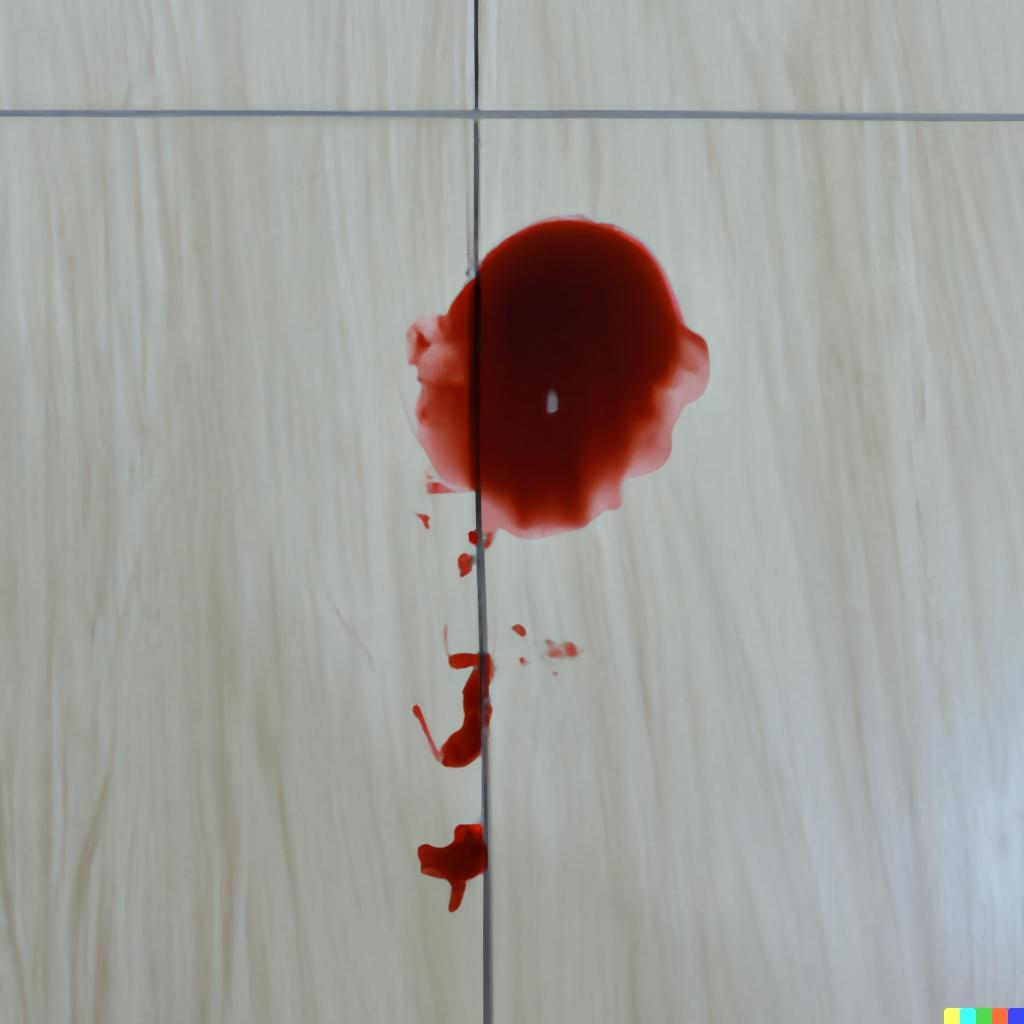Fire: (405, 215, 710, 548), (440, 652, 482, 767), (484, 652, 496, 732)
